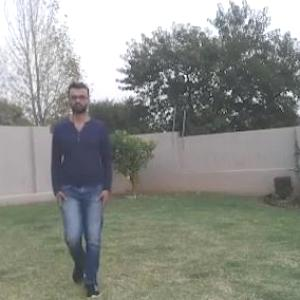follow: (55, 96, 112, 274)
